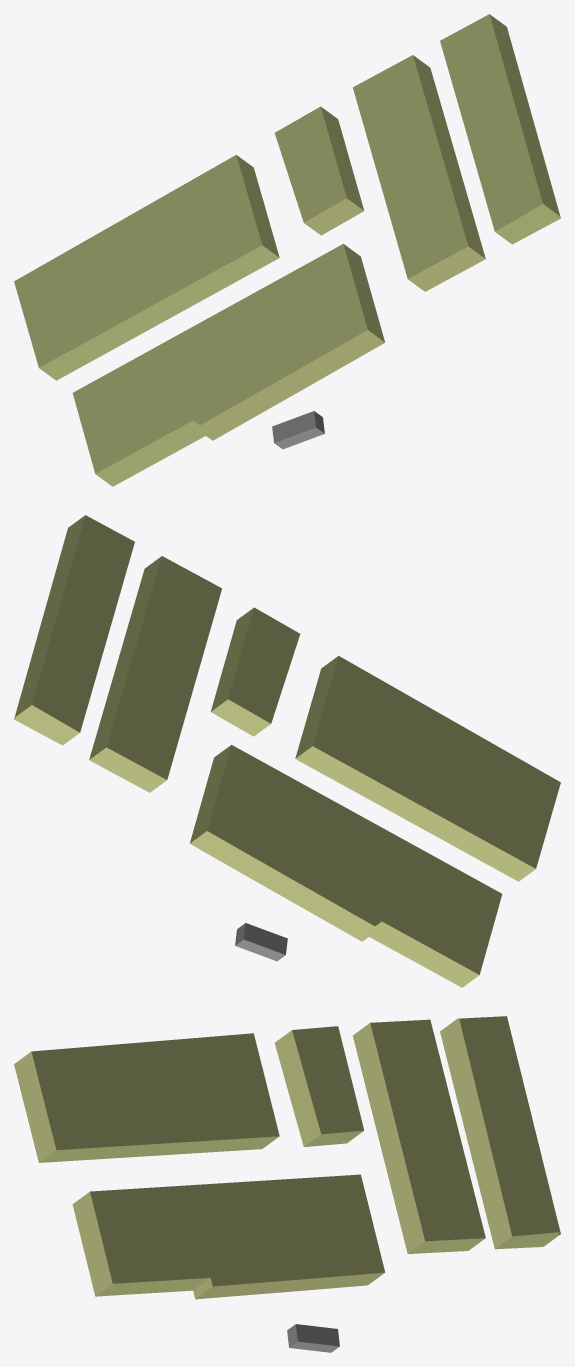
3 renders of one model, top to bottom at view 1: azimuth 30°, elevation 25°; view 2: azimuth 150°, elevation 25°; view 3: azimuth 330°, elevation 25°, orthographic.
Parts seen in each view (by area): view 1: 0_1_3_2_2_2_1_2; view 2: 0_1_3_2_2_2_1_2; view 3: 0_1_3_2_2_2_1_2.
Boxes of the visible parts, <box> form: 0_1_3_2_2_2_1_2: <box>14,14,560,486</box>; 0_1_3_2_2_2_1_2: <box>14,515,560,987</box>; 0_1_3_2_2_2_1_2: <box>14,1016,560,1352</box>.
Bounding box in the file's own units: 105 × 71.9 × 7.08.
